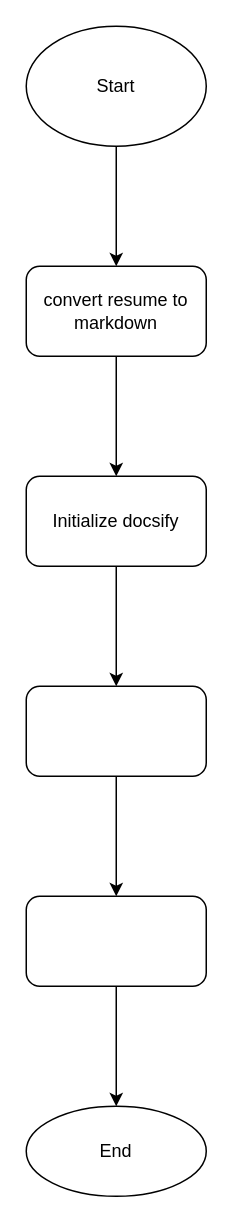
Some shapes in this 233 by 1223 pixel diagram are drawn without their labels. The box of each missing label's shape, as (x1, y1, x2, y2) in pixels:
Deploy to github pages: (25, 895, 206, 986)
Replace README.md content by your resume: (25, 685, 206, 776)
